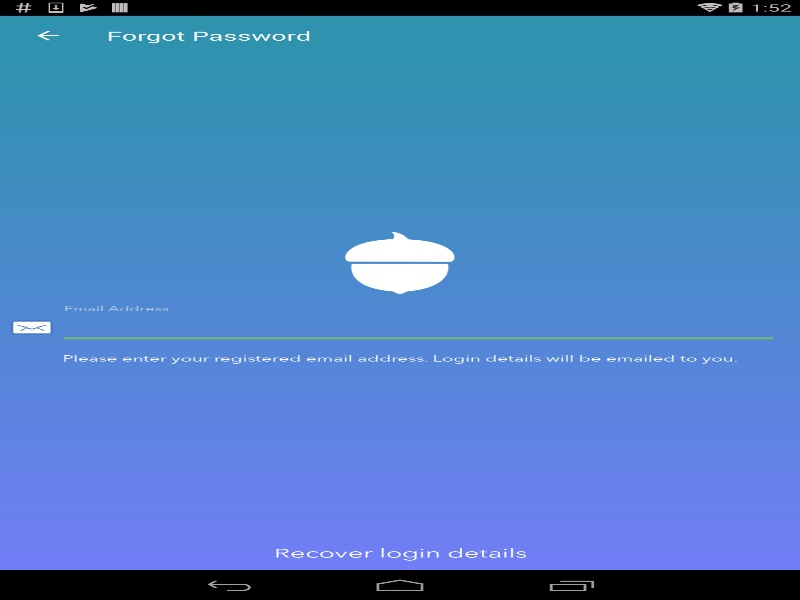Button: (0, 536, 800, 570), (10, 15, 85, 55), (760, 55, 800, 74)
Input: (0, 303, 773, 343)
